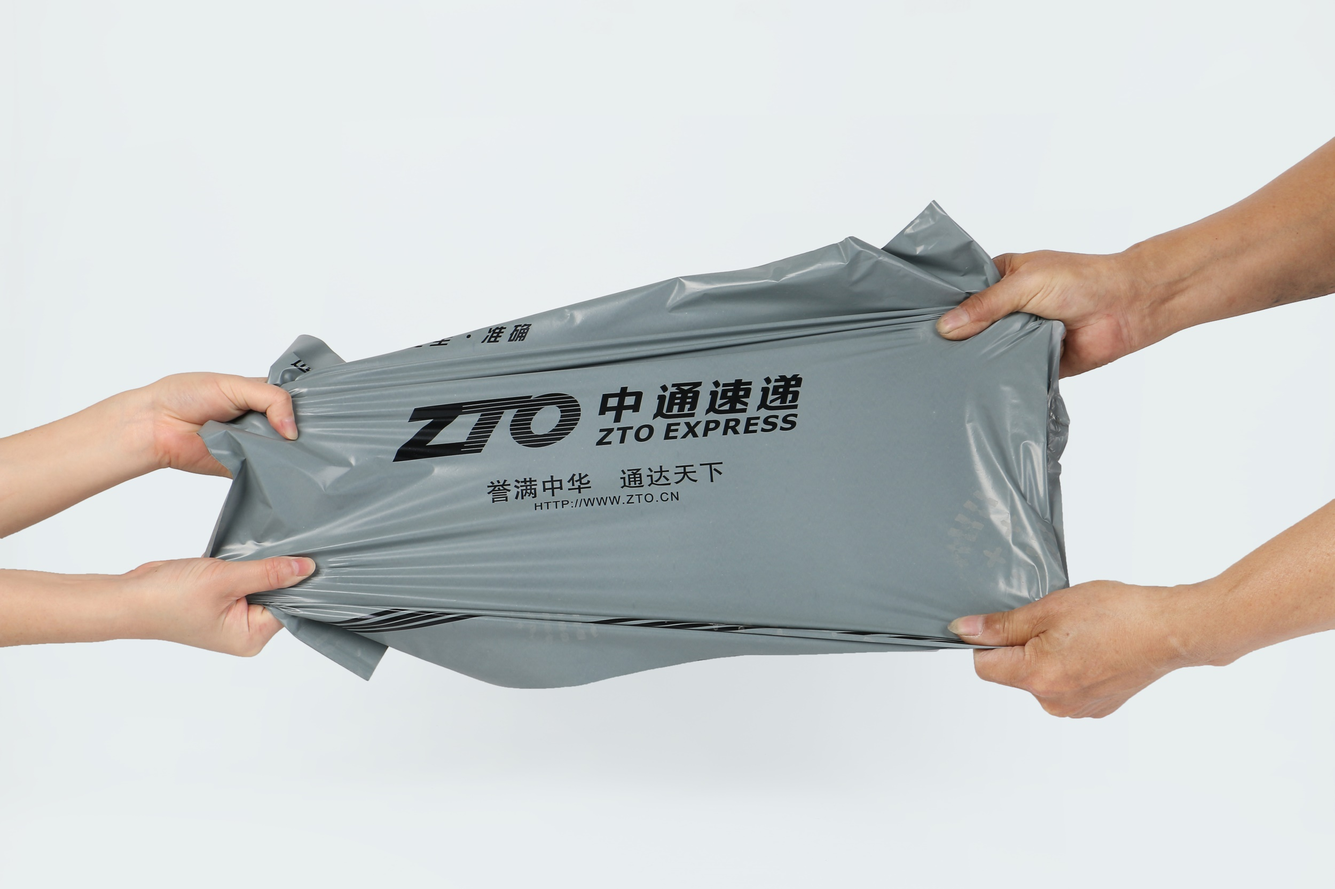塑料袋: (136, 178, 1177, 861)
